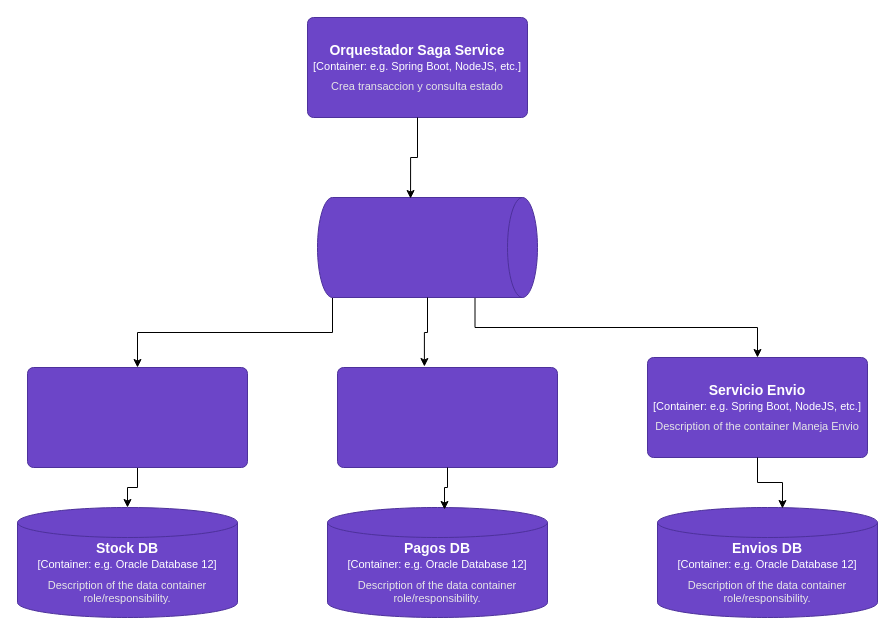
Image size: 895x635. Some labels were removed from this diagram. The shapes that lost their labels are listed below. From the top down, each one's centre as x and y in pixels, then its label:
At point (427, 247): "RabbitMQ [Container: e.g. RabbitMQ, etc.] Gestiona los mensajes asincronos".
At point (137, 417): "Servicio Stock [Container: e.g. Spring Boot, NodeJS, etc.] Maneja Stock".
At point (447, 417): "Servicio Pago [Container: e.g. Spring Boot, NodeJS, etc.] Maneja Pago".
